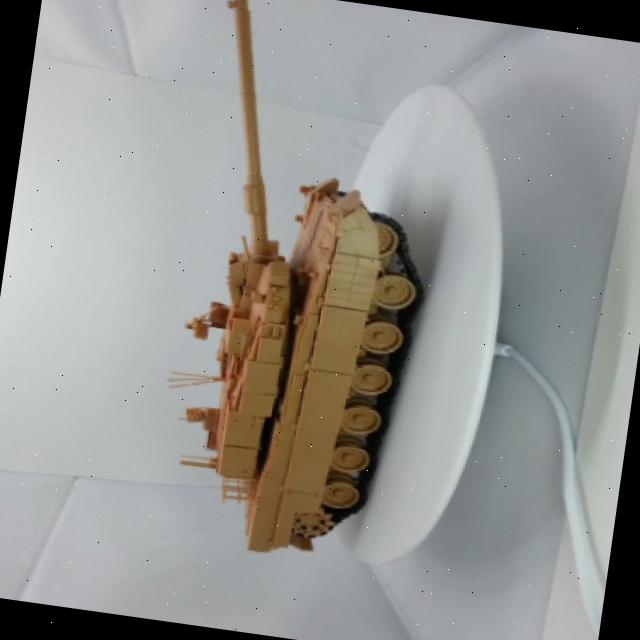korea tank: (133, 0, 473, 596)
